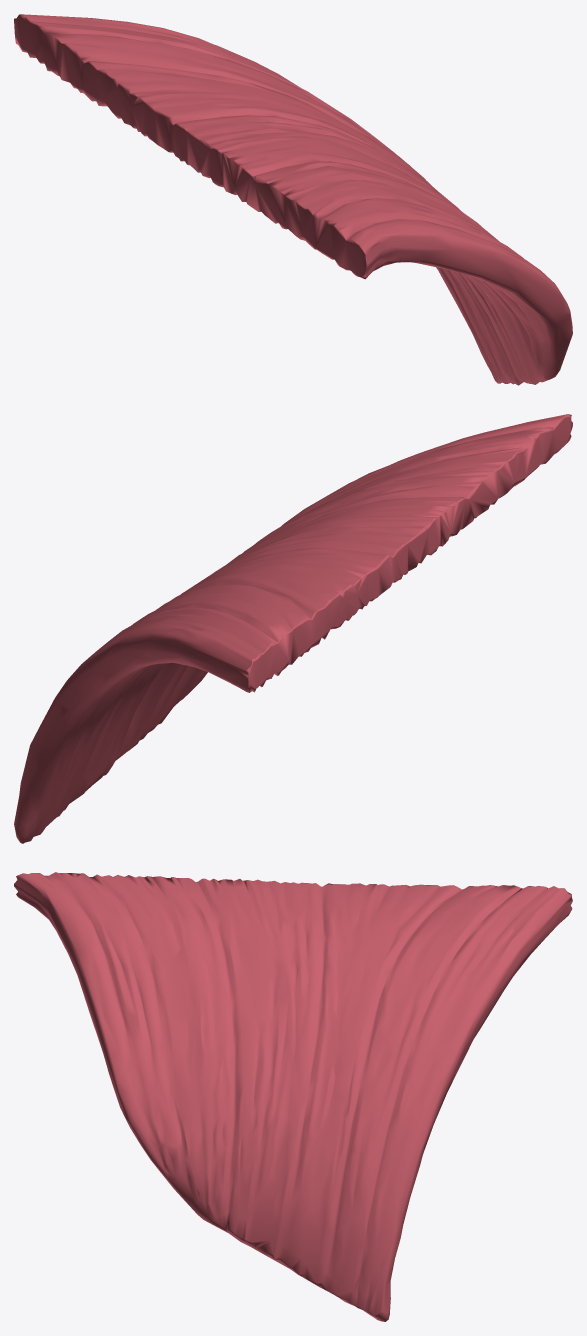
3 renders of one model, top to bottom at view 1: azimuth 30°, elevation 25°; view 2: azimuth 150°, elevation 25°; view 3: azimuth 270°, elevation 25°, orthographic. The views are drawn at different scales.
Visible parts, largest first — view 1: 左侧咽上缩肌; view 2: 左侧咽上缩肌; view 3: 左侧咽上缩肌.
Part boxes in pixels (x1,y1,x2,y2): 左侧咽上缩肌: [14, 14, 572, 385]; 左侧咽上缩肌: [14, 414, 572, 843]; 左侧咽上缩肌: [14, 872, 572, 1321].
Size of the model in its own units: 0.0486 by 0.0481 by 0.079.
